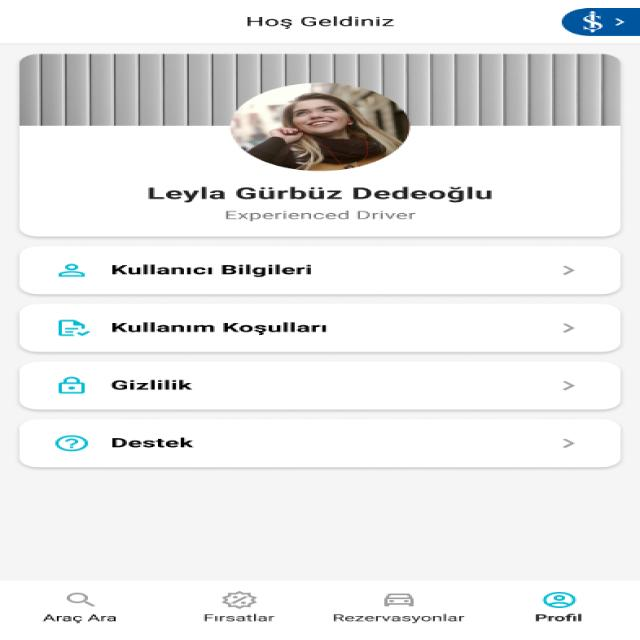QLabel: (140, 185, 496, 202), (105, 320, 332, 336), (107, 262, 316, 278), (212, 208, 421, 222), (238, 13, 397, 29), (330, 613, 470, 623), (110, 378, 196, 392), (109, 437, 197, 449), (200, 613, 278, 623), (41, 614, 119, 624), (532, 613, 584, 623)
VAppBar: (0, 0, 640, 44)
VBottomNavigation: (0, 579, 640, 640)
VBtn: (314, 584, 508, 636), (10, 585, 167, 635), (182, 584, 303, 636), (515, 583, 630, 636)
VCard: (16, 52, 626, 240)
VExpansionPanels: (17, 244, 624, 296), (17, 360, 623, 412), (18, 418, 622, 469), (17, 302, 624, 352)
VIcon: (55, 318, 93, 338), (54, 375, 90, 396), (541, 591, 576, 609), (221, 591, 257, 608), (54, 434, 86, 453), (56, 261, 85, 280), (65, 592, 97, 607), (383, 593, 414, 607)
VImg: (228, 82, 412, 170), (562, 7, 640, 36)
